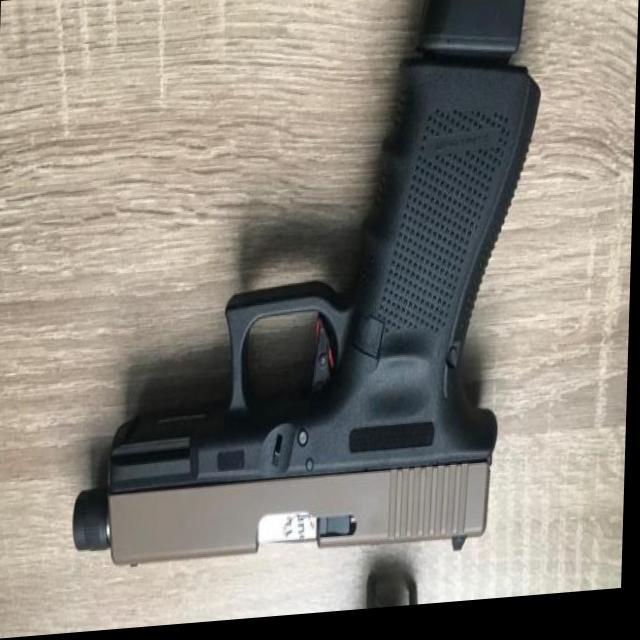handgun: (64, 0, 554, 594)
